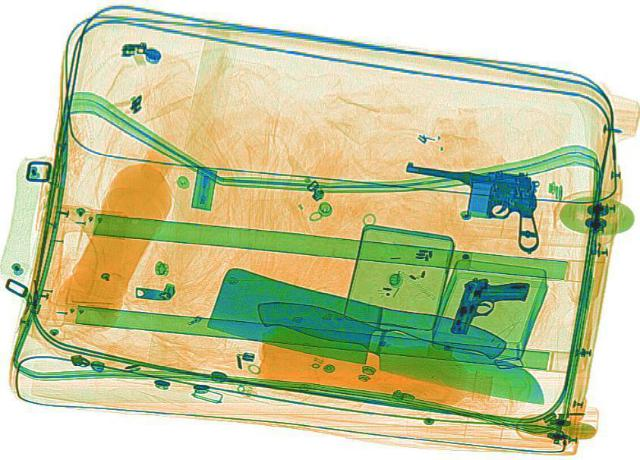Gun: (381, 154, 559, 250), (447, 267, 531, 342)
Knife: (234, 284, 562, 417), (192, 264, 510, 395)
